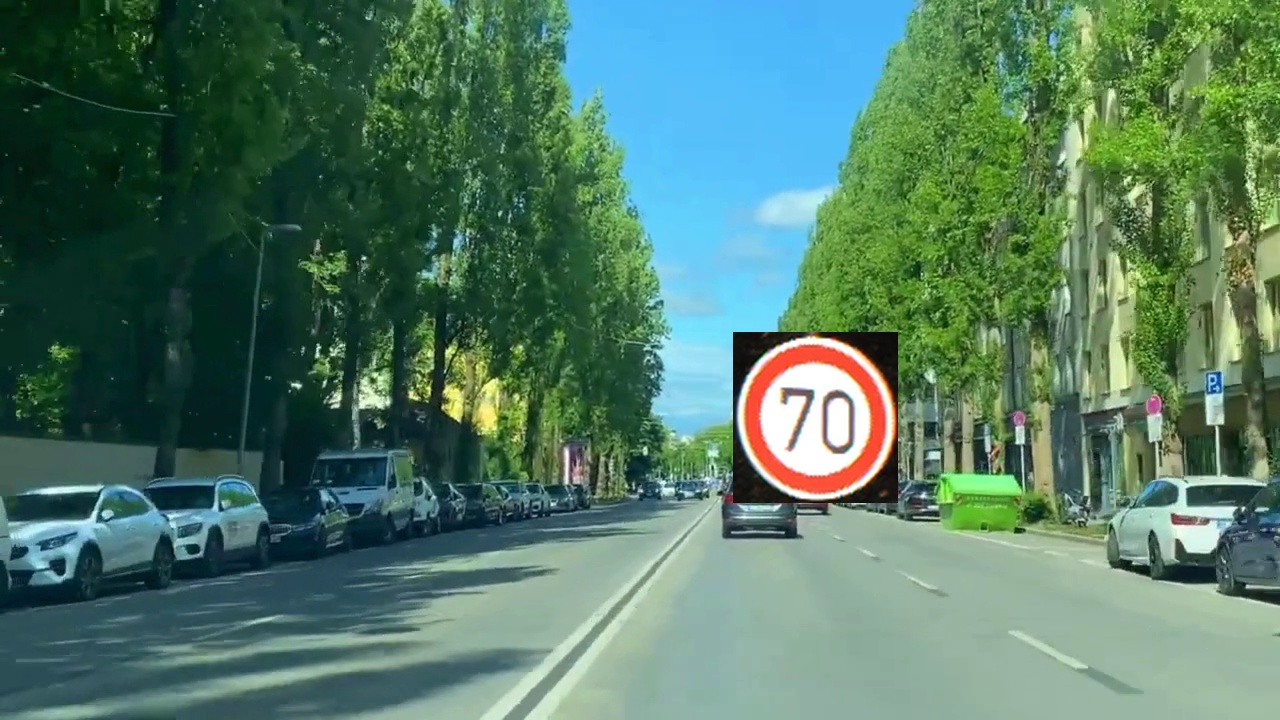Speed 70: (733, 332, 898, 503)
